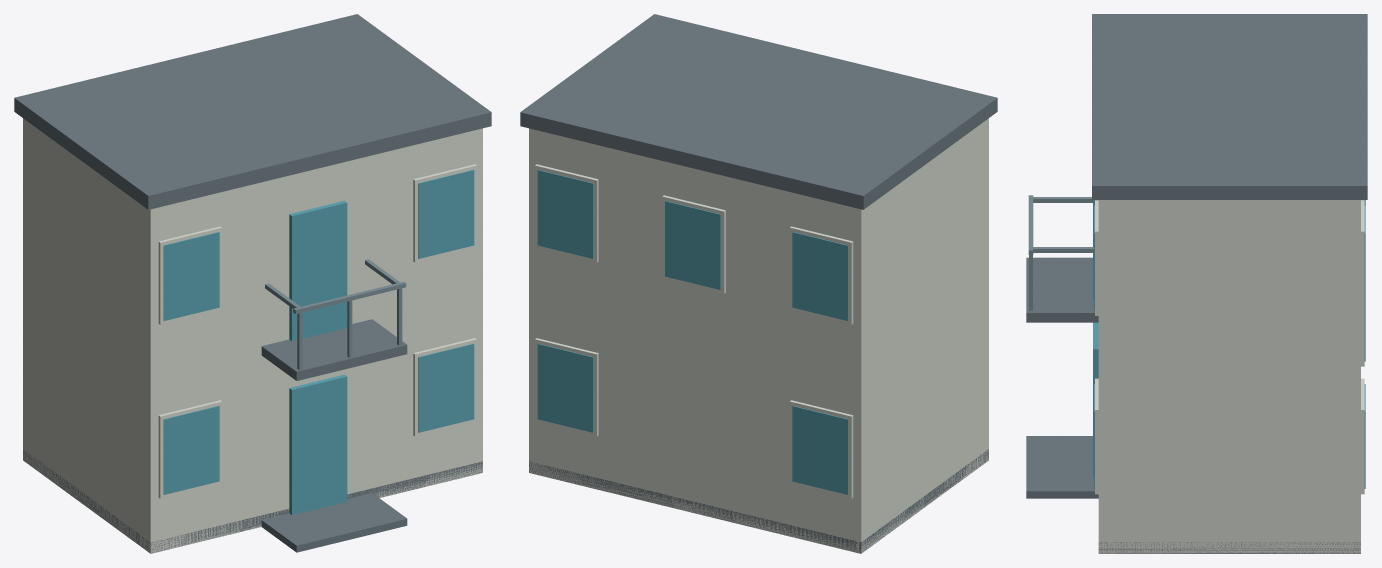
Rendered from apartment-medium.glb.
The picture shows the model from 3 angles, left to right: view 1: azimuth 30°, elevation 25°; view 2: azimuth 150°, elevation 25°; view 3: azimuth 270°, elevation 25°; orthographic projection. The views are drawn at different scales.
Visible parts, largest first — view 1: Building wall volume 001, Flat roof coping 031, Entry door 030, Balcony door 016, Balcony deck 023, Ground entrance porch 011, Window blue glazing 020, Window blue glazing 004, Window blue glazing 008, Window blue glazing 013, Plinth 002, Window trim 003 (+4 smaller); view 2: Building wall volume 001, Flat roof coping 031, Plinth 002, Window blue glazing 022, Window blue glazing 006, Window blue glazing 010, Window blue glazing 015, Window blue glazing 018, Window trim 005, Window trim 014, Window trim 009, Window trim 021 (+1 smaller); view 3: Building wall volume 001, Flat roof coping 031, Ground entrance porch 011, Balcony deck 023, Plinth 002, Window trim 007, Window trim 009, Window trim 019, Window trim 021, Entry door 030.
Boxes of the visible parts, x1,y1,x2,y2 form: Building wall volume 001: [23, 118, 482, 553]; Flat roof coping 031: [14, 14, 491, 209]; Entry door 030: [289, 374, 347, 514]; Balcony door 016: [289, 200, 347, 341]; Balcony deck 023: [261, 319, 407, 380]; Ground entrance porch 011: [261, 493, 407, 552]; Window blue glazing 020: [418, 169, 474, 258]; Window blue glazing 004: [163, 406, 219, 494]; Window blue glazing 008: [418, 343, 474, 432]; Window blue glazing 013: [163, 232, 219, 320]; Plinth 002: [23, 450, 482, 553]; Window trim 003: [158, 400, 222, 498]; Building wall volume 001: [529, 118, 988, 553]; Flat roof coping 031: [520, 14, 997, 209]; Plinth 002: [529, 449, 988, 553]; Window blue glazing 022: [537, 169, 593, 258]; Window blue glazing 006: [792, 406, 848, 494]; Window blue glazing 010: [537, 343, 593, 432]; Window blue glazing 015: [792, 232, 848, 320]; Window blue glazing 018: [665, 201, 720, 289]; Window trim 005: [789, 400, 853, 498]; Window trim 014: [789, 226, 853, 324]; Window trim 009: [535, 338, 598, 436]; Window trim 021: [535, 164, 598, 262]; Building wall volume 001: [1098, 200, 1360, 553]; Flat roof coping 031: [1092, 14, 1367, 199]; Ground entrance porch 011: [1026, 436, 1098, 498]; Balcony deck 023: [1026, 257, 1098, 322]; Plinth 002: [1098, 542, 1360, 553]; Window trim 007: [1095, 378, 1098, 494]; Window trim 009: [1361, 378, 1364, 494]; Window trim 019: [1095, 200, 1098, 315]; Window trim 021: [1361, 200, 1364, 315]; Entry door 030: [1093, 322, 1098, 477].
Bounding box in the file's own units: 6.2 × 6.24 × 5.2.
Materials: 4 (4 with a texture image).
